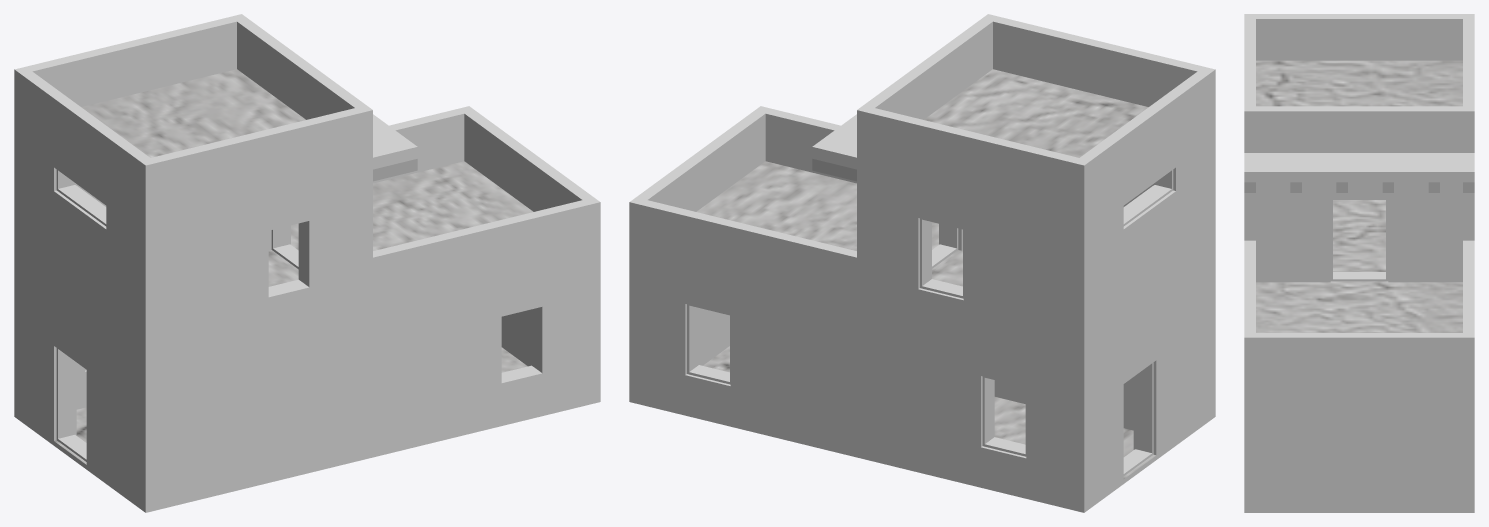
Rendered from AridBuilding_1.fbx.
3 views of the same model, side by side, from view 1: azimuth 30°, elevation 25°; view 2: azimuth 150°, elevation 25°; view 3: azimuth 270°, elevation 25° (orthographic). The views are drawn at different scales.
Visible parts, largest first — view 1: Cube.037, Cube.079, Cube.076, Cube.077, Cube.078, Cube.080; view 2: Cube.037, Cube.079, Cube.073, Cube.074, Cube.075, Cube.067, Cube.078, Cube.080; view 3: Cube.037, Cube.080.
Part boxes in pixels (bbox=[...]): Cube.037: bbox=[14, 14, 600, 512]; Cube.079: bbox=[56, 348, 86, 461]; Cube.076: bbox=[266, 218, 311, 300]; Cube.077: bbox=[499, 304, 544, 385]; Cube.078: bbox=[56, 169, 106, 226]; Cube.080: bbox=[271, 225, 298, 269]; Cube.037: bbox=[629, 14, 1215, 512]; Cube.079: bbox=[1123, 362, 1153, 475]; Cube.073: bbox=[982, 376, 1026, 456]; Cube.074: bbox=[920, 218, 963, 298]; Cube.075: bbox=[687, 304, 730, 384]; Cube.067: bbox=[994, 377, 1133, 430]; Cube.078: bbox=[1123, 169, 1173, 226]; Cube.080: bbox=[932, 224, 958, 268]; Cube.037: bbox=[1244, 14, 1474, 512]; Cube.080: bbox=[1330, 199, 1388, 281].
Bounding box in the file's own units: 1000 × 730 × 500.
